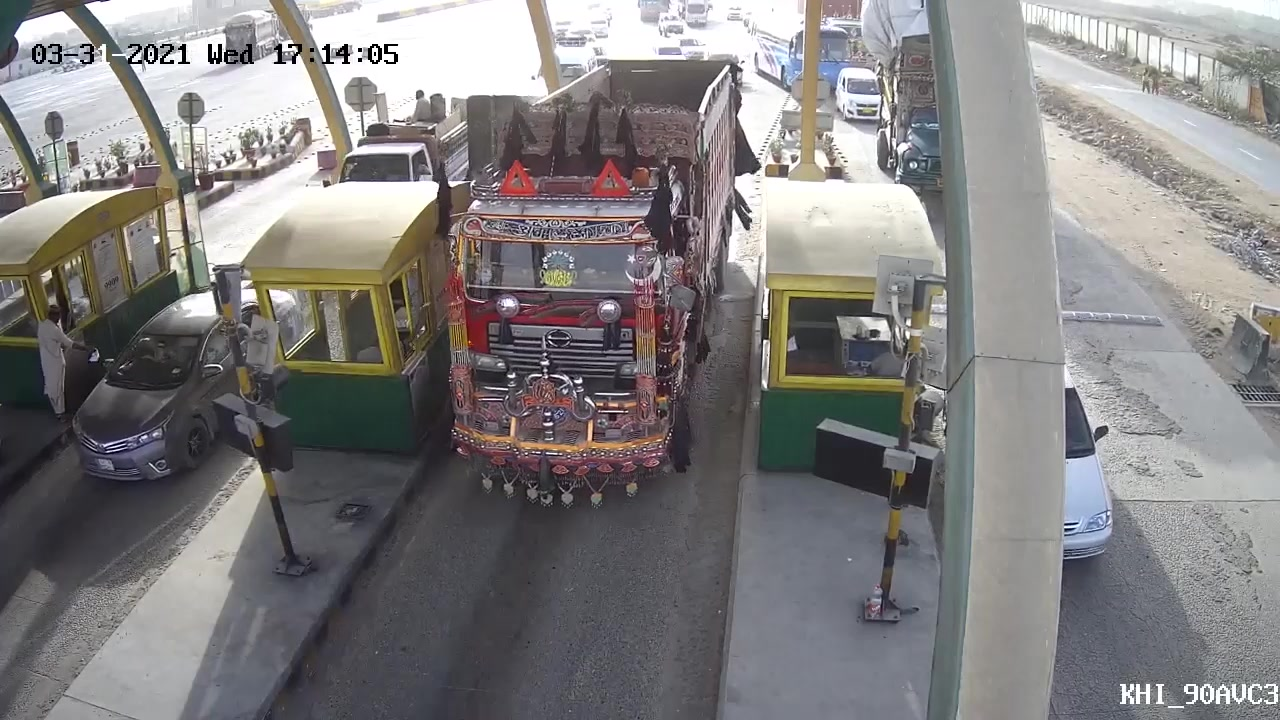F6: (438, 62, 747, 509)
